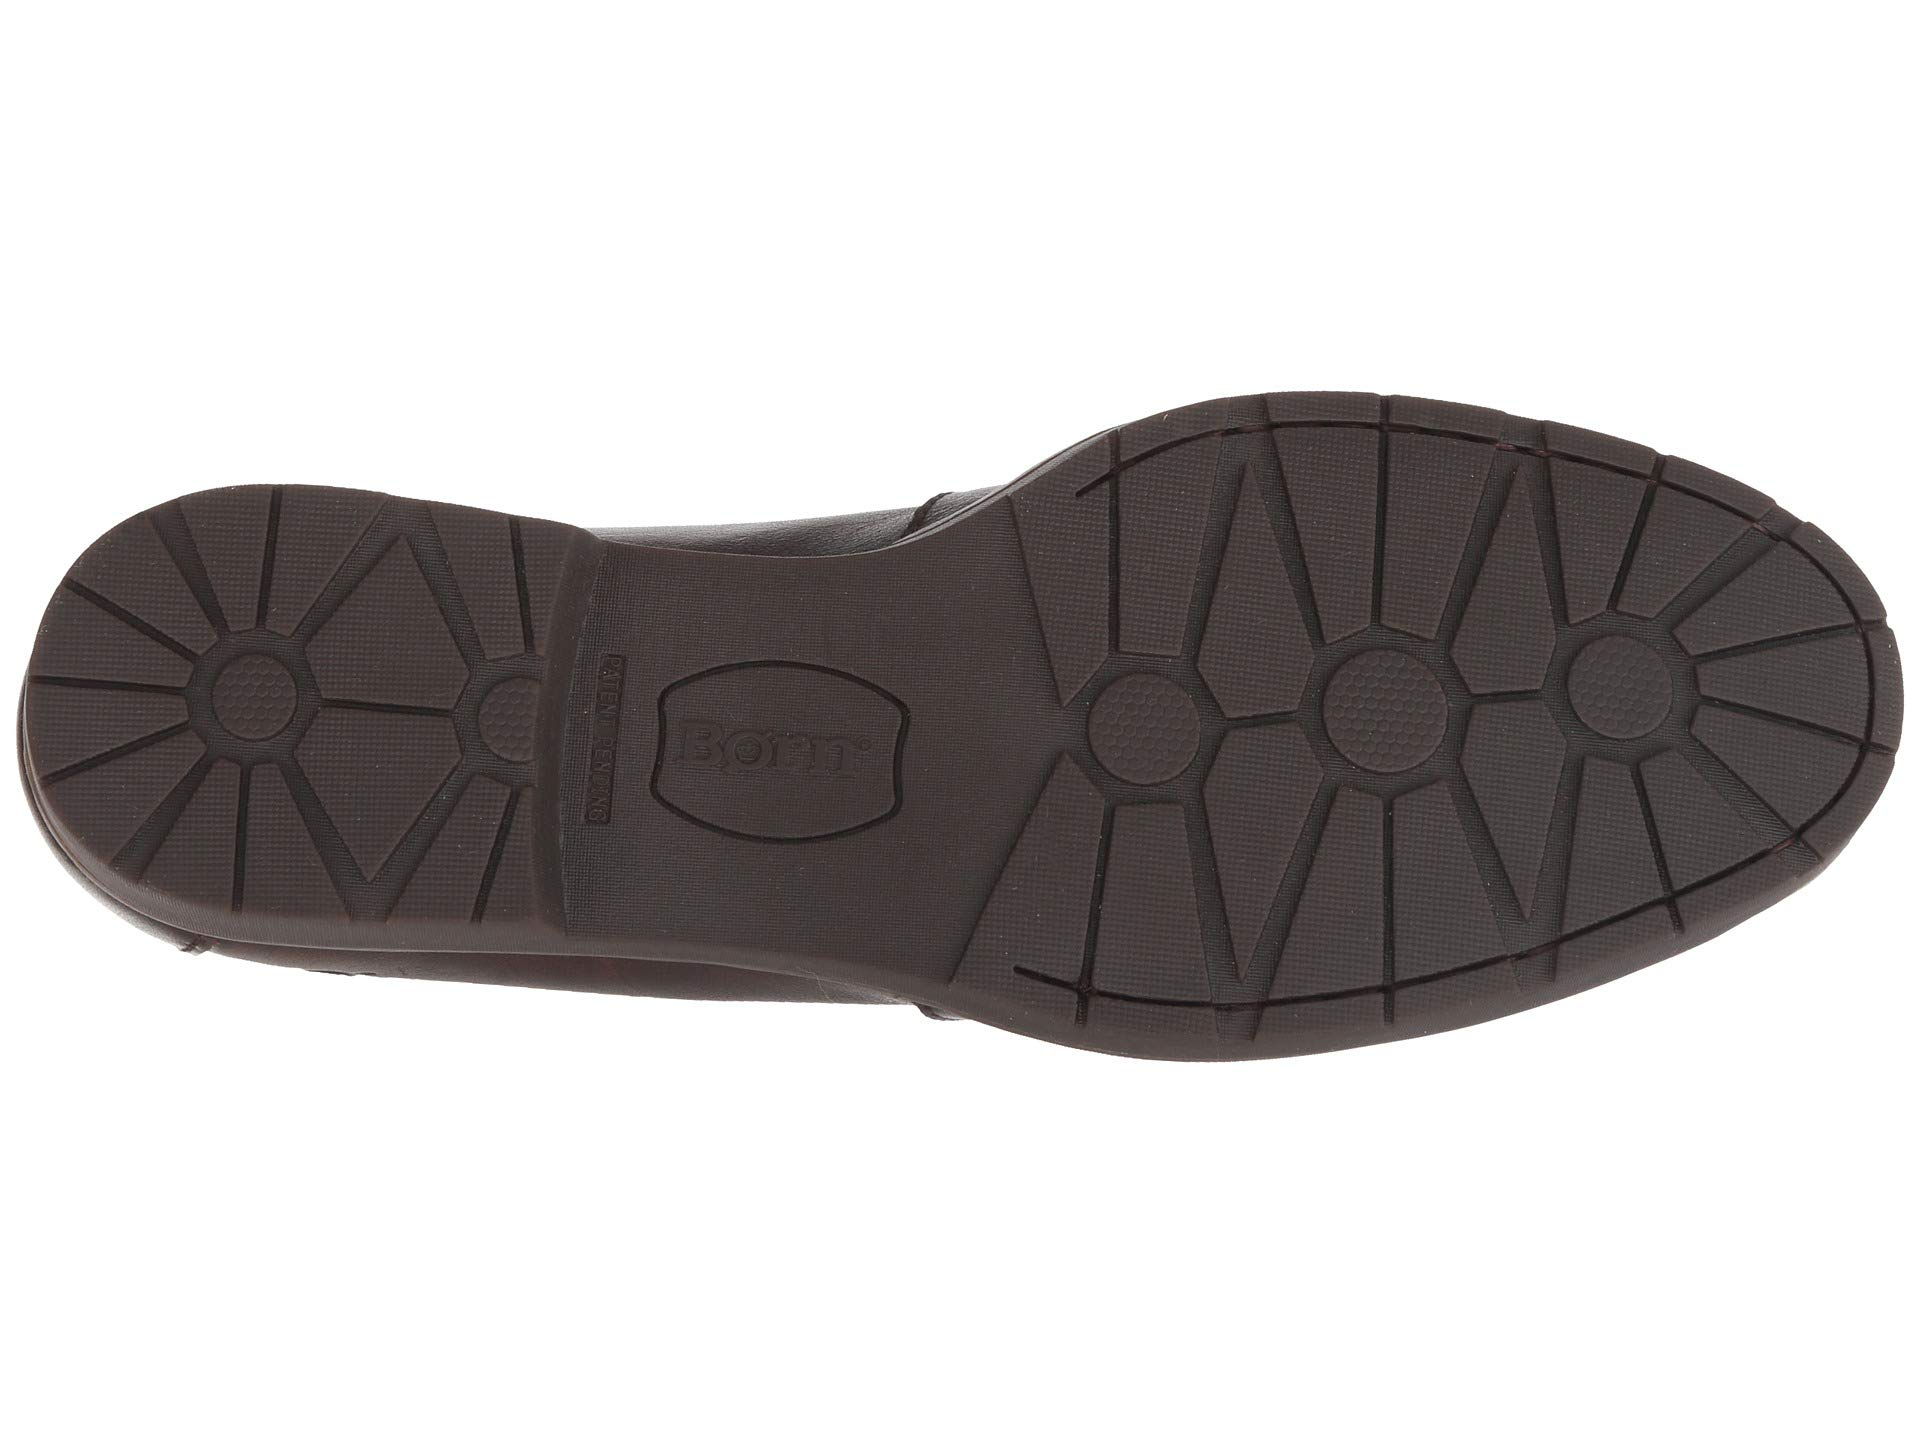circle: (1267, 398, 1528, 1041), (1002, 411, 1261, 1054), (33, 496, 401, 909), (1544, 417, 1788, 959), (194, 643, 311, 761)
quad: (1267, 398, 1528, 1041), (1002, 411, 1261, 1054), (33, 496, 401, 909), (1544, 417, 1788, 959)
triangle: (455, 767, 559, 932)
